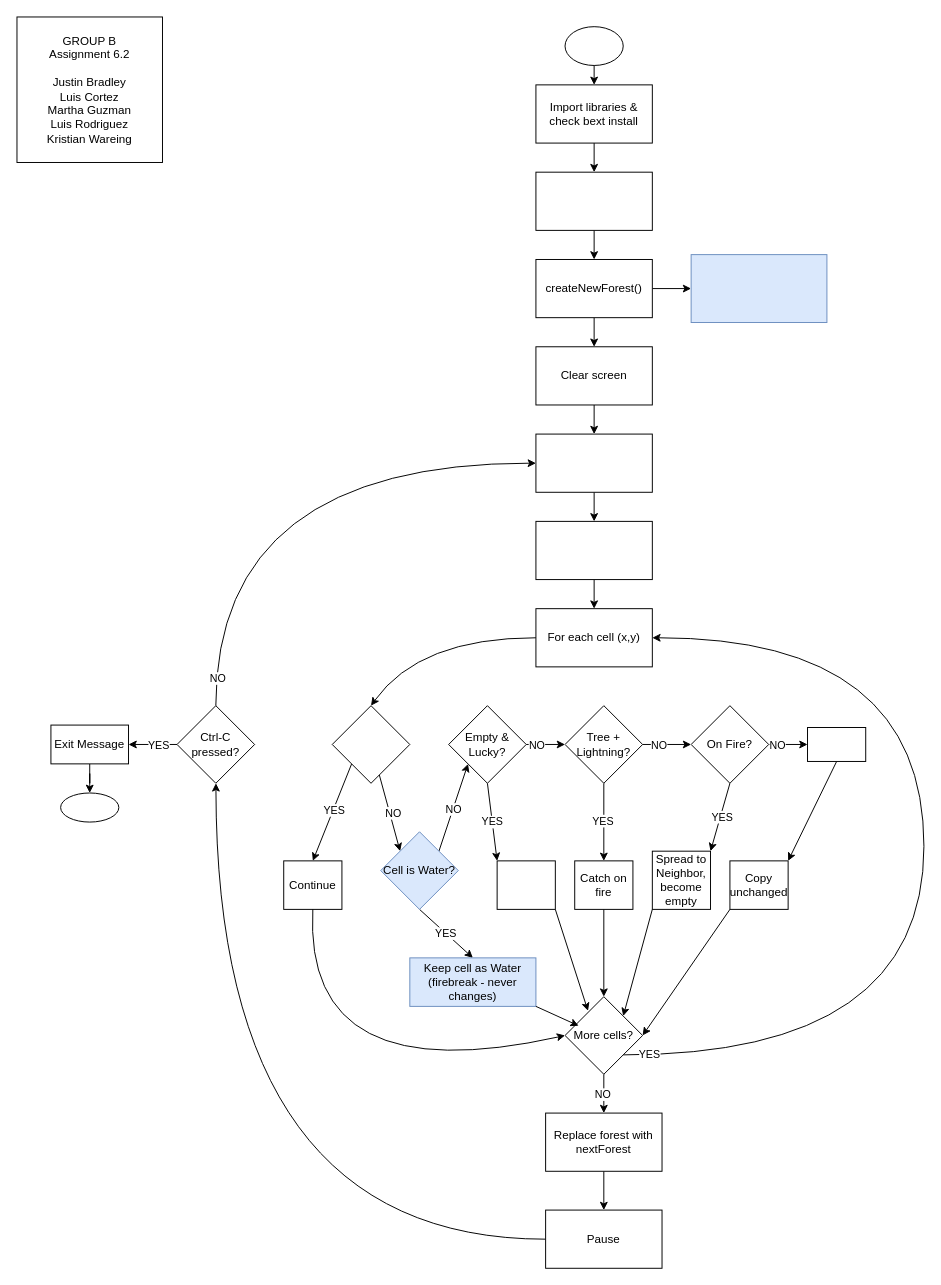
Some shapes in this 941 by 1285 pixel diagram are drawn without their labels. Each missing label, with the centre of its shape:
"Already decided?" belongs at point 370,744.
"Build nextForest" belongs at point 593,550.
"Define constants: grid size, symbols, probabilities" belongs at point 593,200.
"displayForest()" belongs at point 593,462.
"END" belongs at point 89,807.
"Grow a tree" belongs at point 525,884.
"Module 6.2: Place lake (WATER cells) roughly in center of grid" belongs at point 758,288.
"Otherwise" belongs at point 836,744.
"START" belongs at point 593,45.
